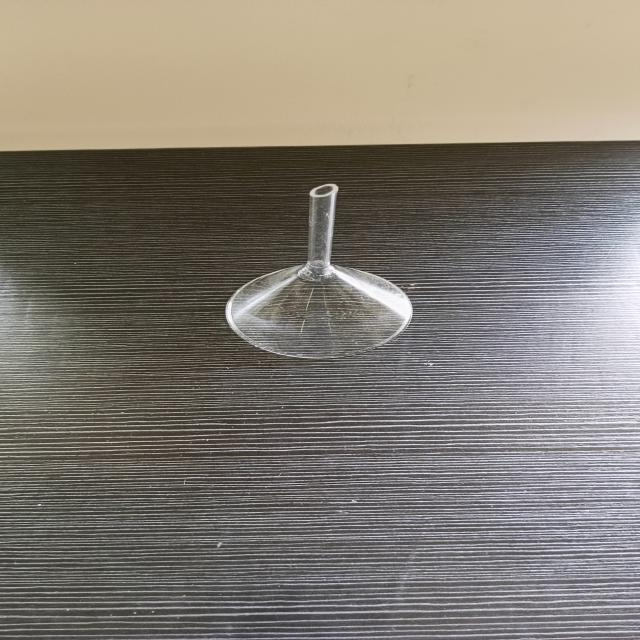funnel: (214, 181, 435, 358)
